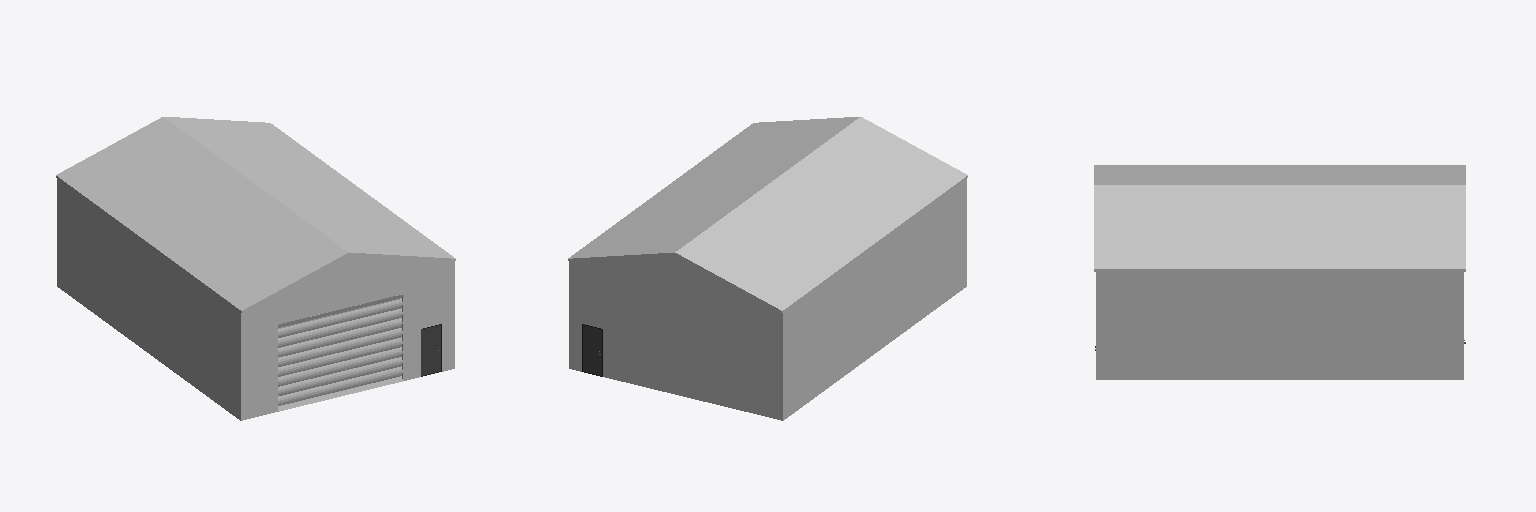
The model's file is shed.obj.
3 views of the same model, side by side, from view 1: azimuth 30°, elevation 25°; view 2: azimuth 150°, elevation 25°; view 3: azimuth 270°, elevation 25° (orthographic).
Visible parts, largest first — view 1: Roof_Cube.019, Wall_L_Plane.004, Wall_F_Plane.005, Door_Bit_Cube.003, Front_Cube.004; view 2: Roof_Cube.019, Wall_B_Plane.003, Wall_L_Plane.004, Back_Cube.008; view 3: Wall_R_Plane.002, Roof_Cube.019.
Boxes of the visible parts, x1,y1,x2,y2 form: Roof_Cube.019: [56, 117, 455, 312]; Wall_L_Plane.004: [57, 178, 240, 420]; Wall_F_Plane.005: [241, 255, 454, 420]; Door_Bit_Cube.003: [278, 294, 402, 411]; Front_Cube.004: [421, 324, 441, 376]; Roof_Cube.019: [568, 117, 967, 312]; Wall_B_Plane.003: [569, 255, 782, 420]; Wall_L_Plane.004: [783, 178, 966, 420]; Back_Cube.008: [582, 324, 602, 376]; Wall_R_Plane.002: [1096, 271, 1463, 379]; Roof_Cube.019: [1094, 165, 1465, 271].
Bounding box in the file's own units: 10.3 × 6.55 × 15.43.